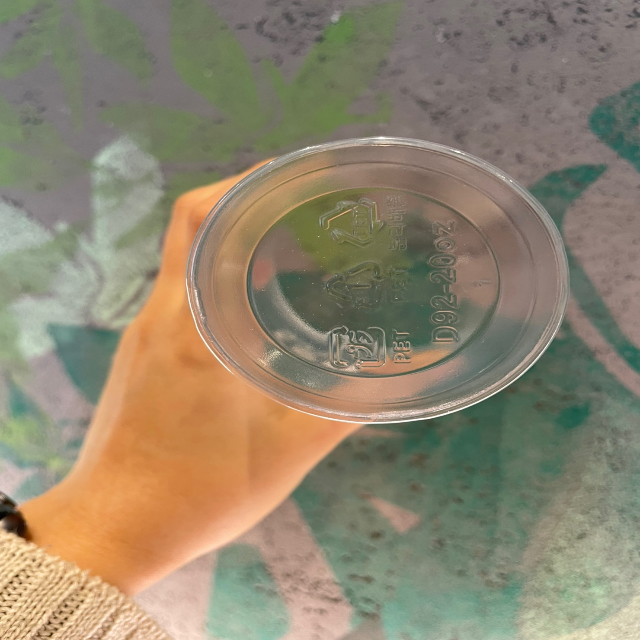pet: (312, 182, 416, 255), (315, 256, 421, 317), (321, 314, 420, 375)
